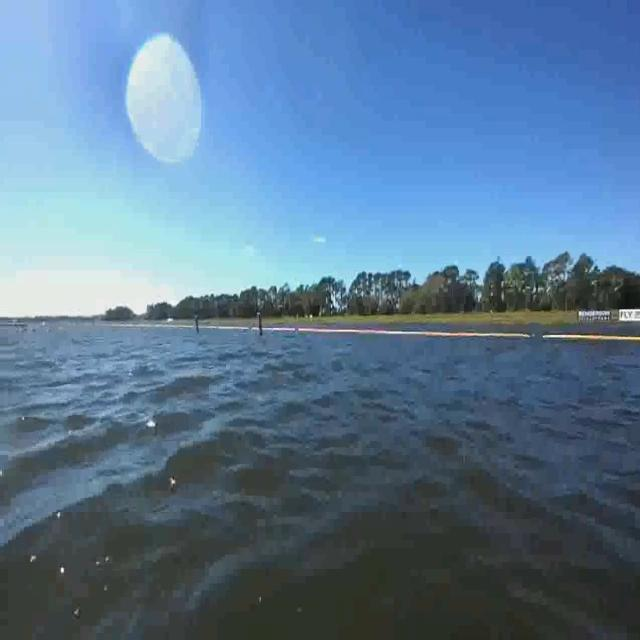yellow-duck: (120, 29, 207, 174)
